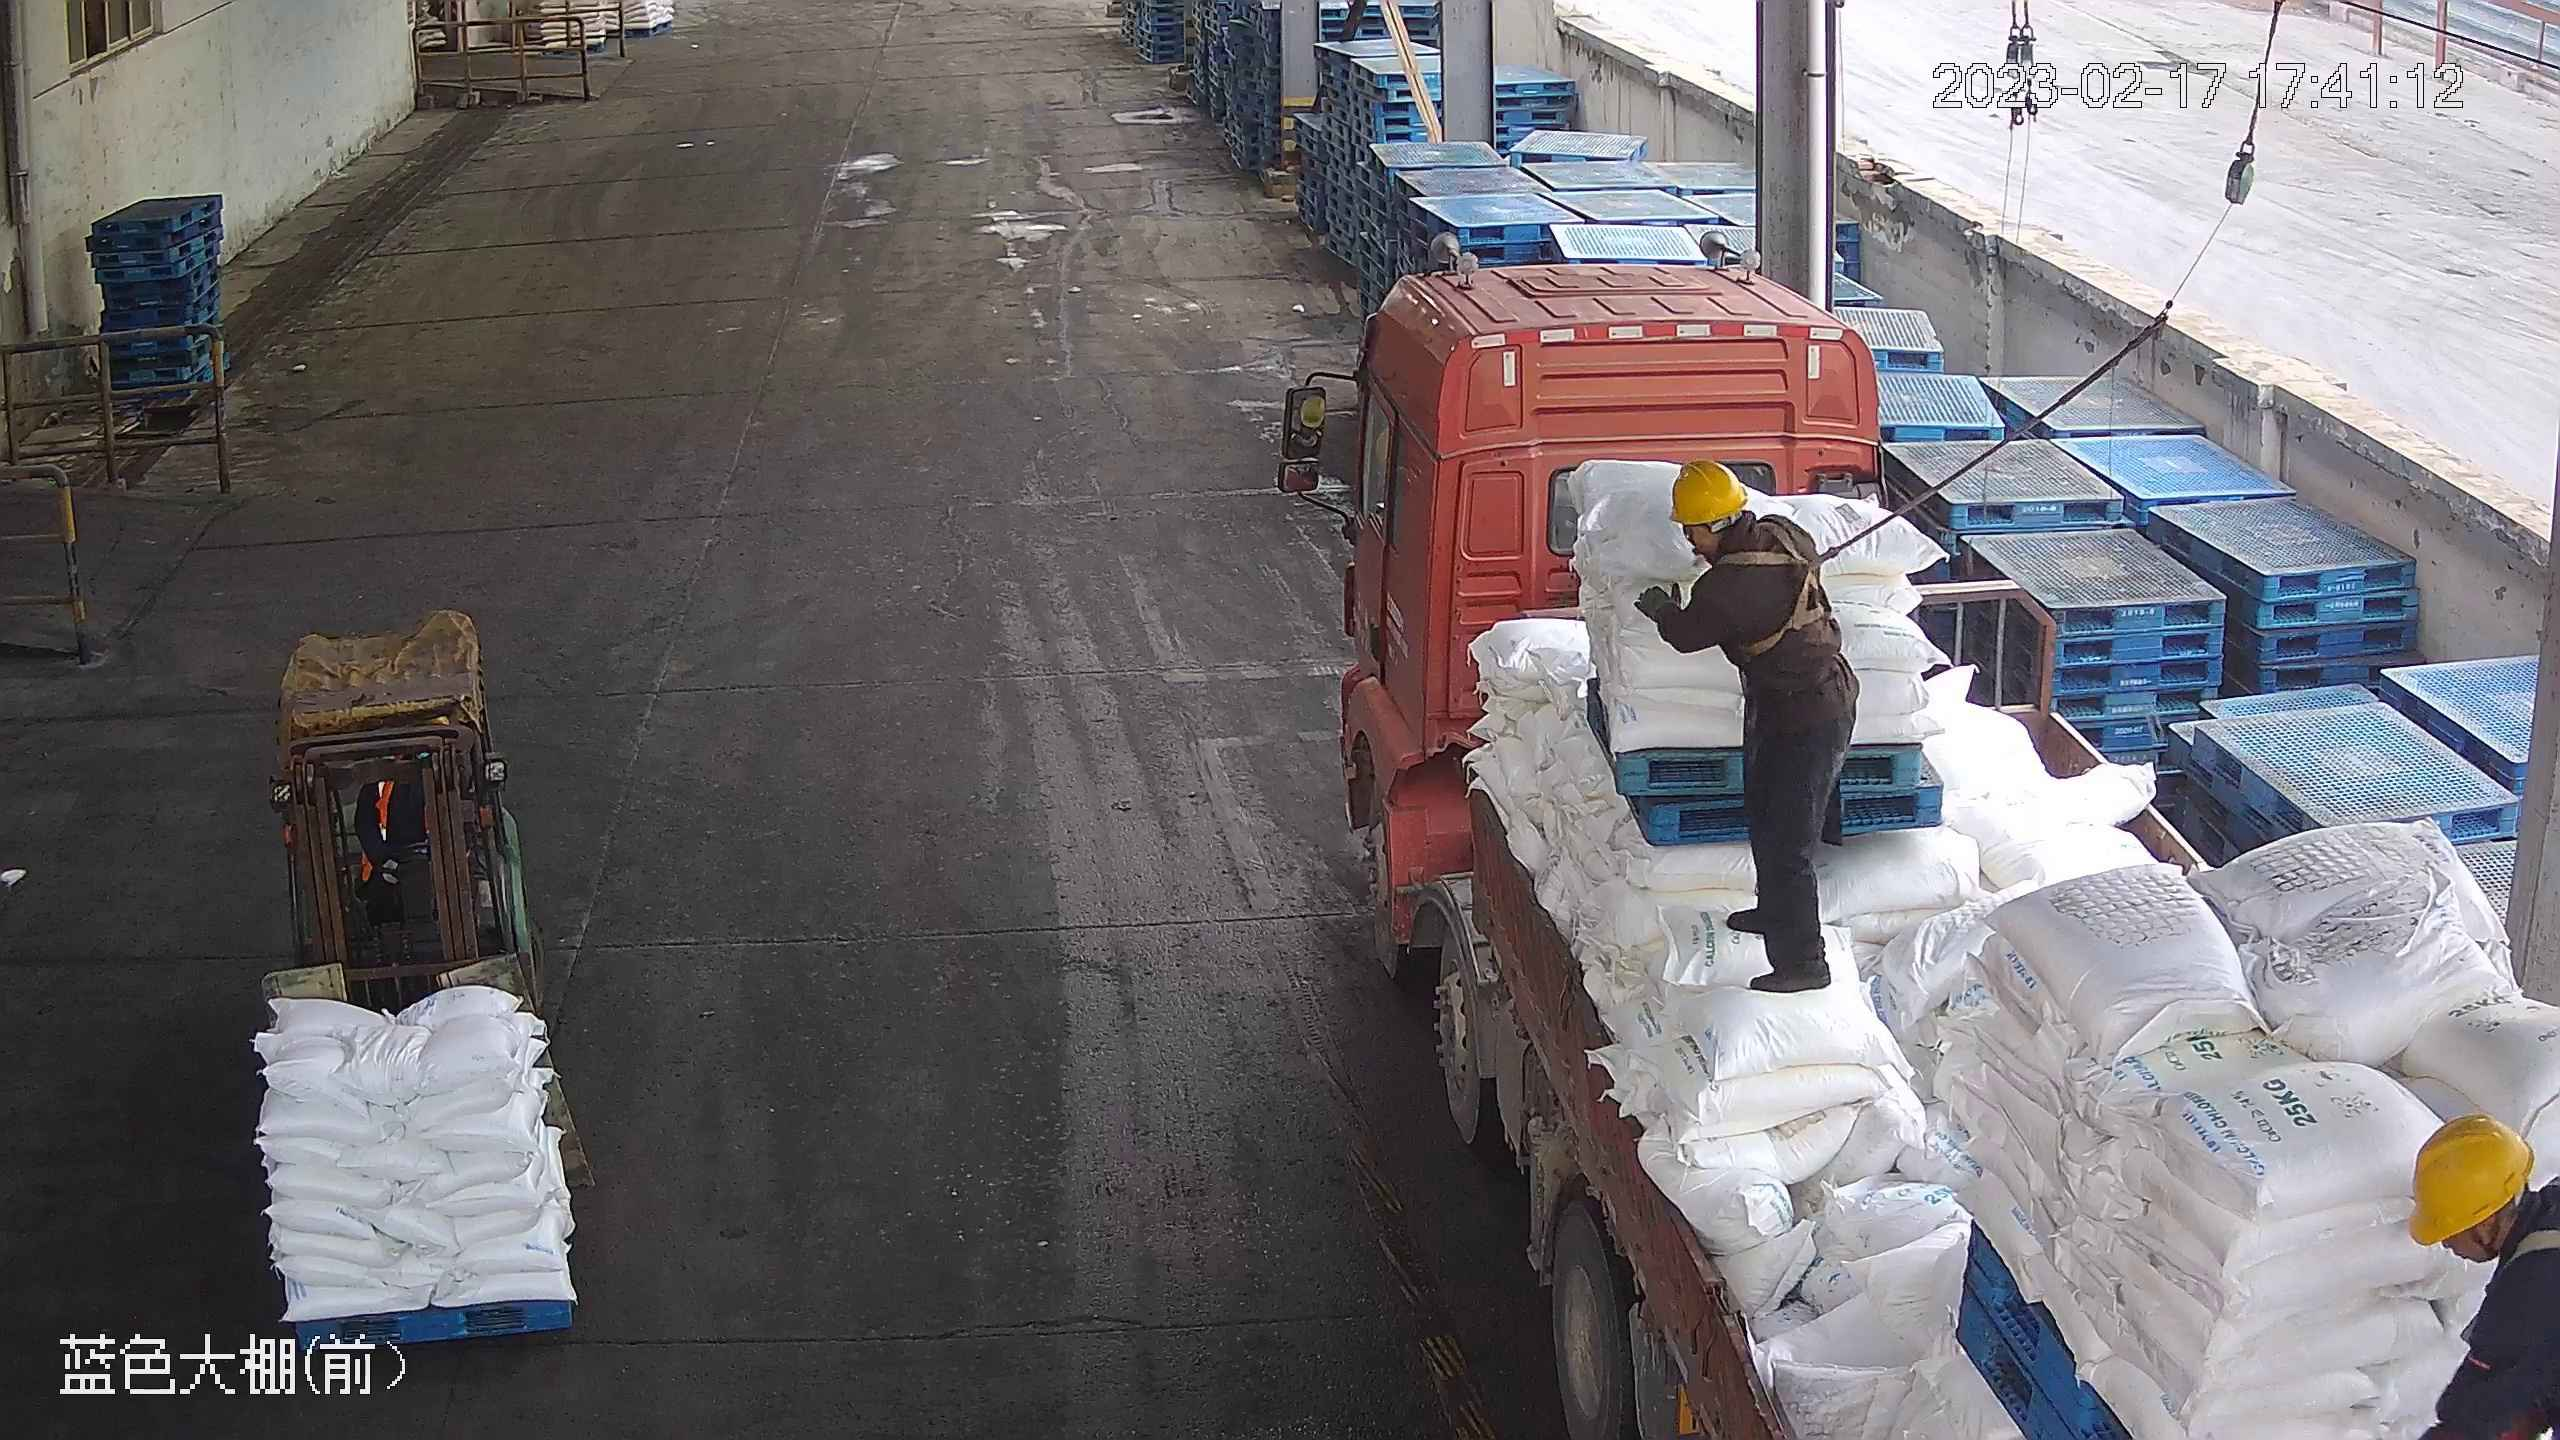belt: (1729, 518, 1846, 656), (2504, 1199, 2560, 1411)
head: (2402, 1120, 2560, 1368), (1651, 456, 1824, 624)
helmet: (2404, 1112, 2538, 1245), (1667, 455, 1748, 526)
people: (1629, 463, 1858, 995), (2400, 1115, 2559, 1418)
truck: (1282, 254, 2552, 1432)
